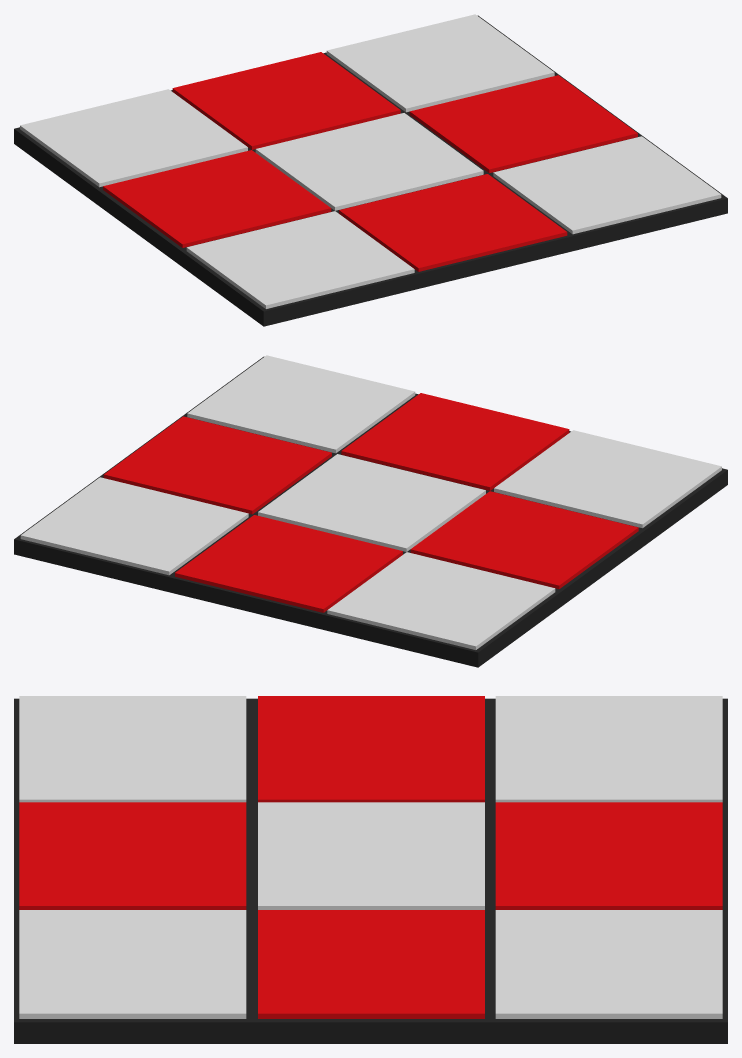
File: checker.fbx
The picture shows the model from 3 angles, top to bottom: view 1: azimuth 30°, elevation 25°; view 2: azimuth 150°, elevation 25°; view 3: azimuth 270°, elevation 25°; orthographic projection. The views are drawn at different scales.
Visible parts, largest first — view 1: Cube.008; view 2: Cube.008; view 3: Cube.008.
Part boxes in pixels (x1=…): Cube.008: x1=14, y1=14, x2=727, y2=326; Cube.008: x1=14, y1=355, x2=727, y2=667; Cube.008: x1=14, y1=696, x2=727, y2=1043.
Bounding box in the file's own units: 625 × 24.29 × 582.
